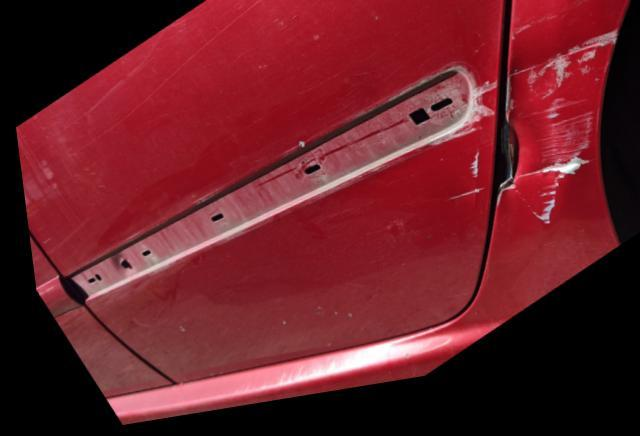scratch: (505, 51, 604, 235), (422, 92, 496, 217)
